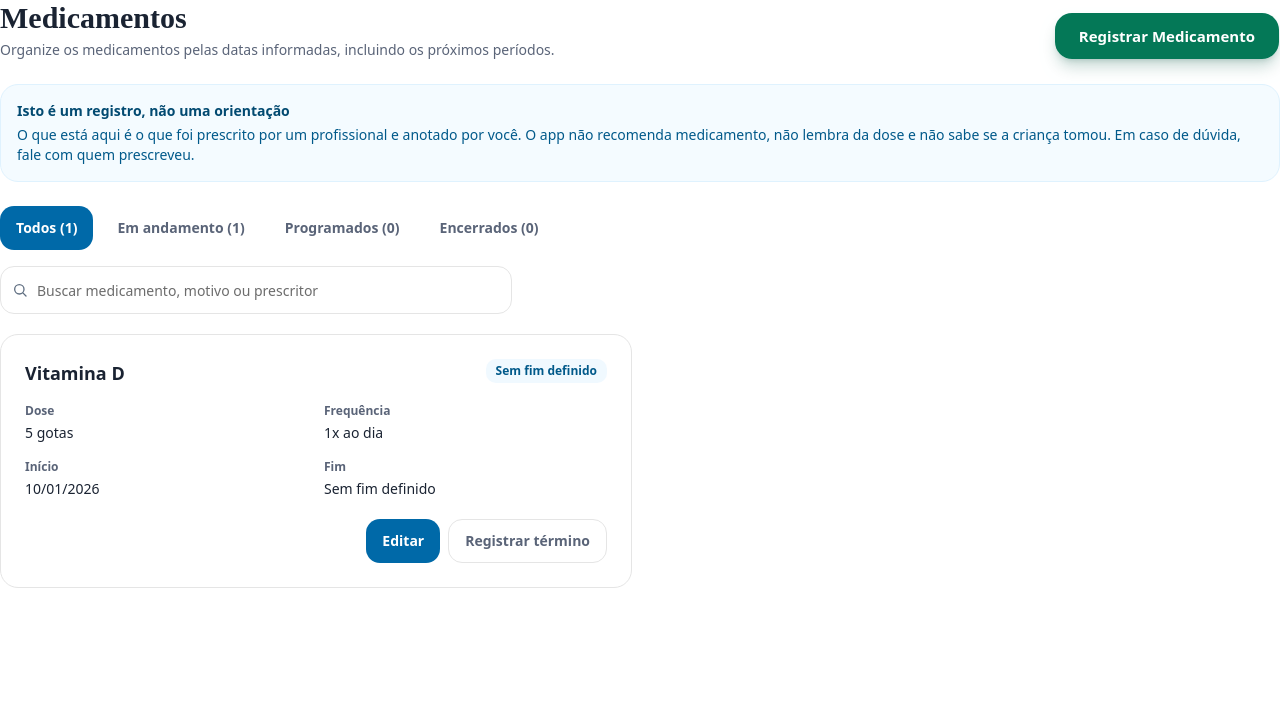
it: MedicationsRoute, editing and failures › opens the editor already filled for the course chosen
The width and height of the screenshot is (1280, 720).
Click the button "Editar" at [403, 541], box [366,519,440,563]
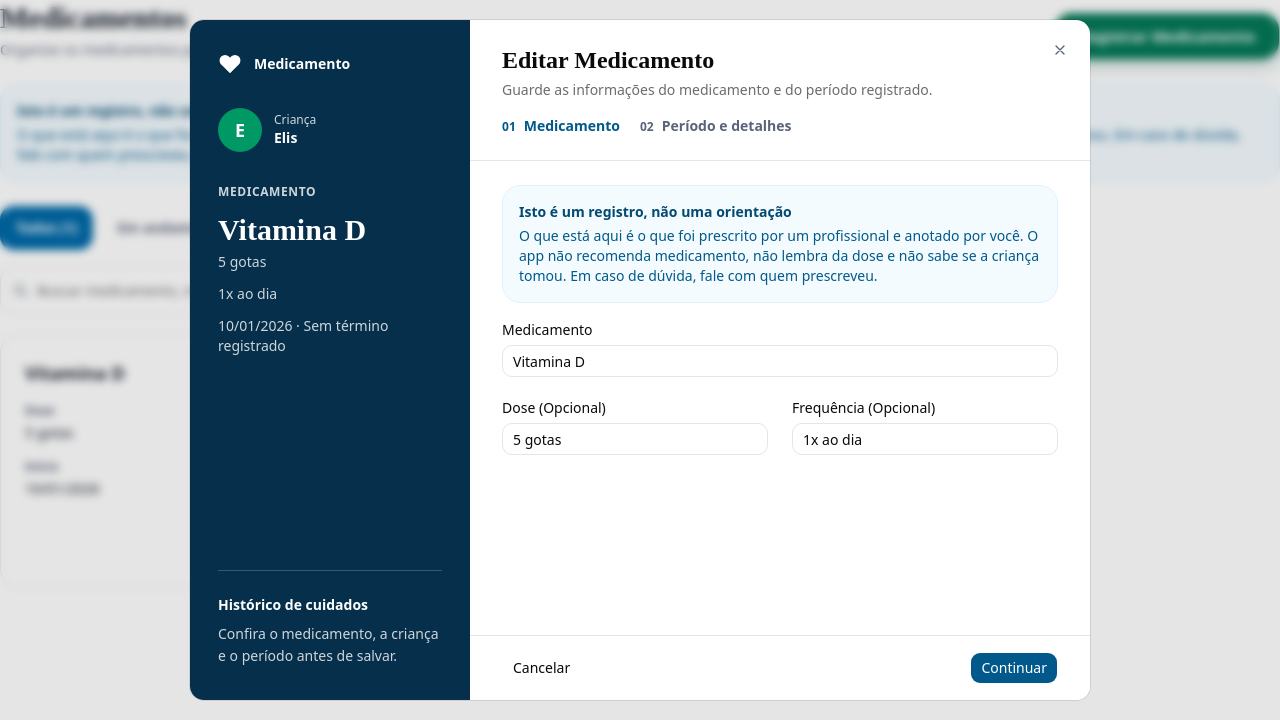
Expected: the heading "Editar Medicamento" is shown, [502,47,714,73]
Expected: the field showing "Vitamina D" is shown, [502,345,1058,377]
